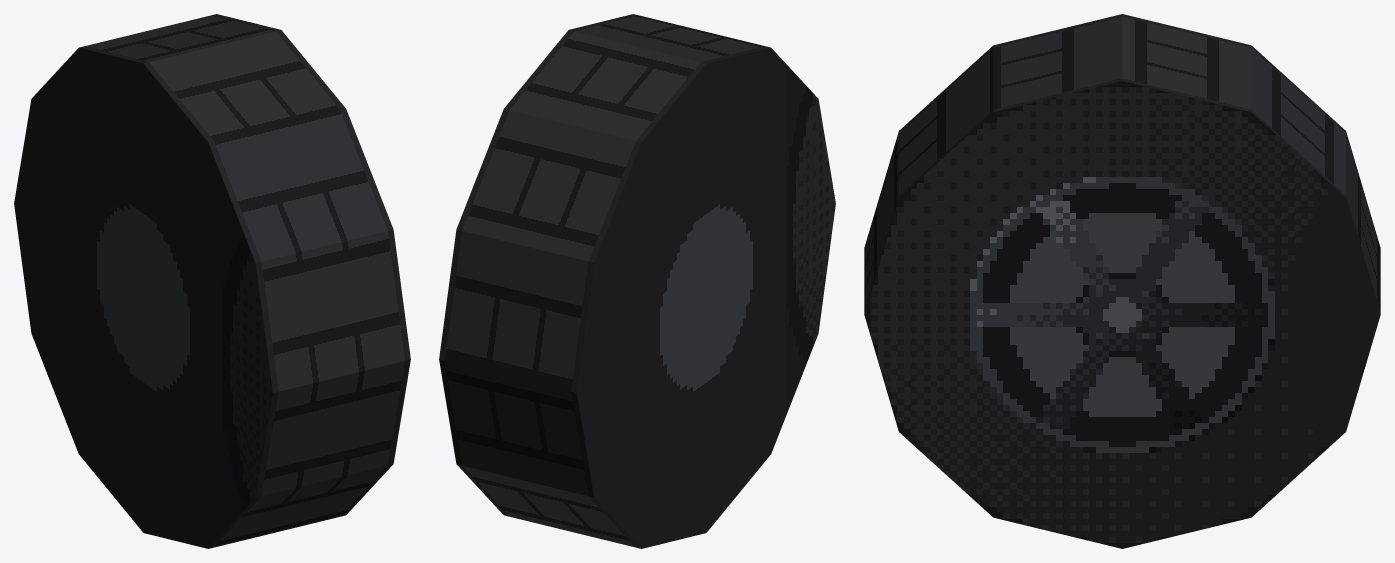
File: wheel_black6.glb
3 renders of one model, left to right at view 1: azimuth 30°, elevation 25°; view 2: azimuth 150°, elevation 25°; view 3: azimuth 270°, elevation 25°, orthographic.
Parts seen in each view (by area): view 1: wheel_black6; view 2: wheel_black6; view 3: wheel_black6.
Part boxes in pixels (x1,y1,x2,y2): wheel_black6: [14, 14, 410, 548]; wheel_black6: [439, 14, 835, 548]; wheel_black6: [864, 14, 1380, 548].
Size of the model in its own units: 0.195 by 0.6345 by 0.6345.
1 material, 1 textured.
